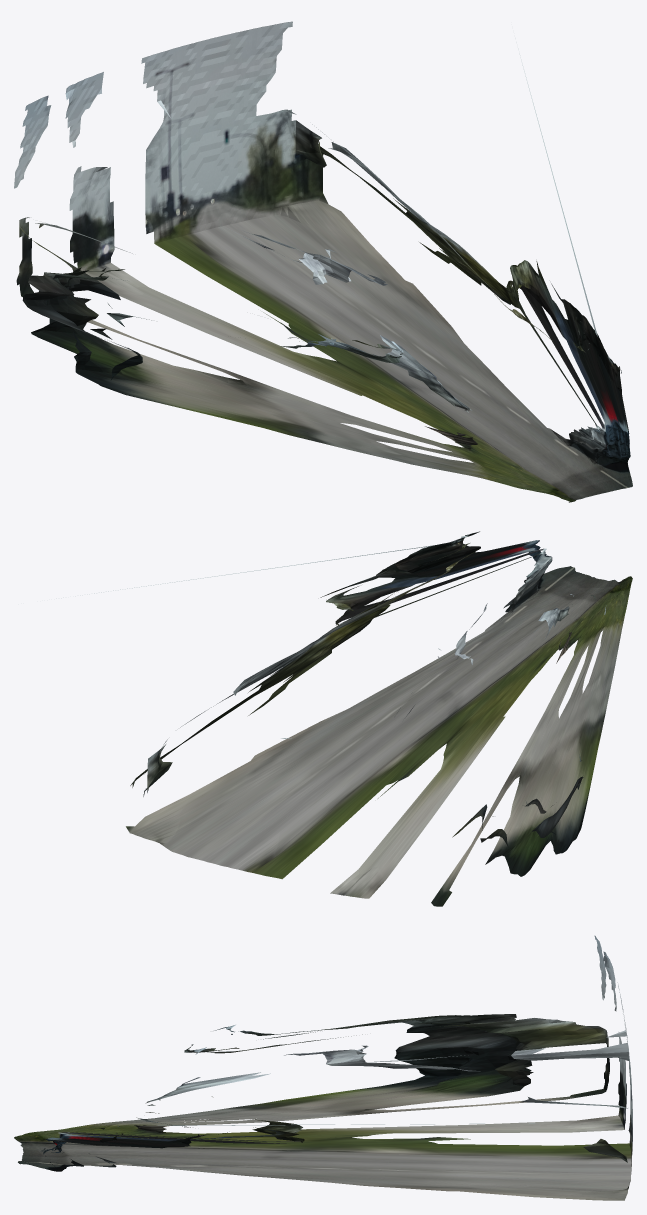
3 views of the same model, one above another, from view 1: azimuth 30°, elevation 25°; view 2: azimuth 150°, elevation 25°; view 3: azimuth 270°, elevation 25° (orthographic). The views are drawn at different scales.
Visible parts, largest first — view 1: defaultobject; view 2: defaultobject; view 3: defaultobject.
Boxes of the visible parts, <box> form: defaultobject: <box>14,21,632,502</box>; defaultobject: <box>56,531,632,906</box>; defaultobject: <box>14,935,632,1200</box>.
Size of the model in its own units: 34.41 by 12.96 by 45.13.
1 material, 1 textured.
